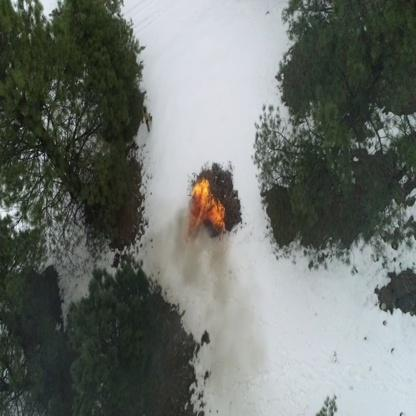Fire: (192, 180, 212, 226), (209, 198, 226, 234), (189, 226, 198, 236)
